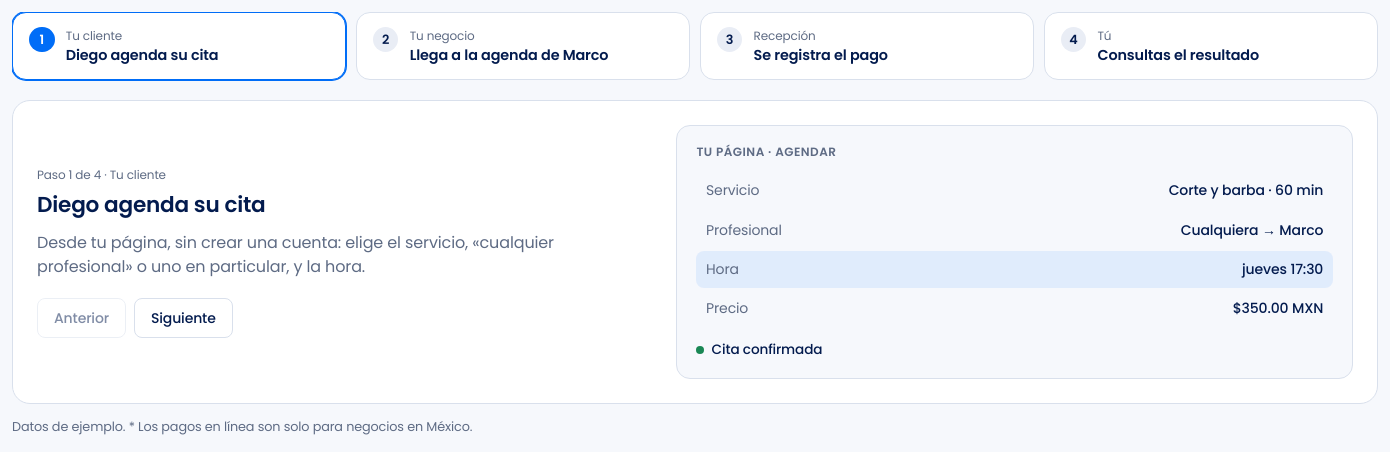
Scenario: recorrido de principio a fin › citas: de agendar sin cuenta al corte del día
This screenshot has width=1390, height=452.
Expected: the panel shows "sin crear una cuenta", x1=37 y1=231 x2=554 y2=278
Step 1. Click the tab "3 Recepción Se registra el pago" → (867, 46), box x1=700 y1=12 x2=1034 y2=80
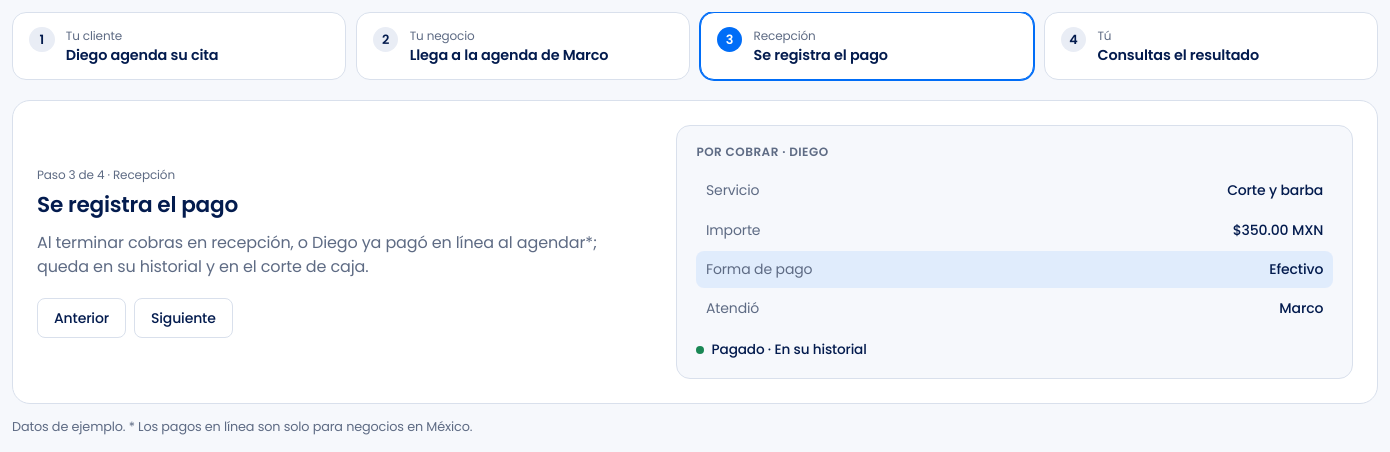
Expected: the panel shows "Se registra el pago", x1=37 y1=189 x2=238 y2=220
